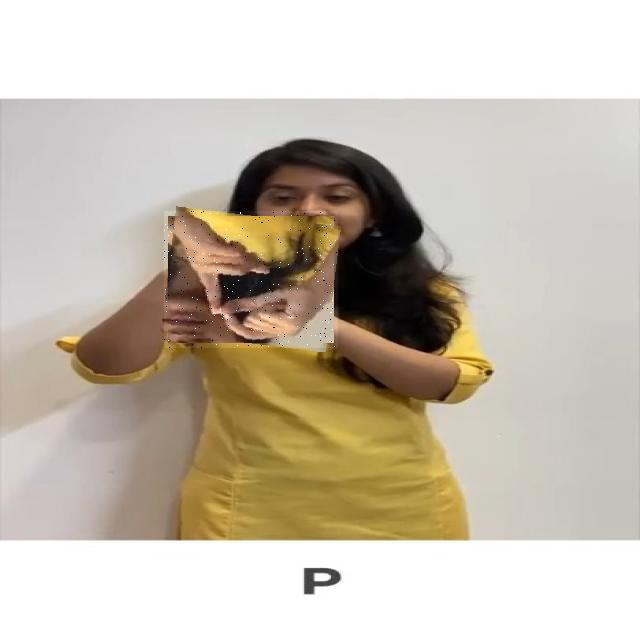P: (164, 211, 338, 348)
